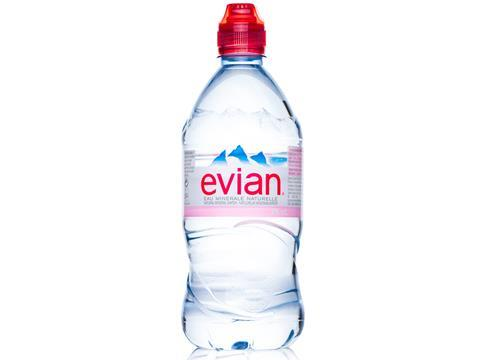PlasticBottle: (180, 2, 314, 350)
